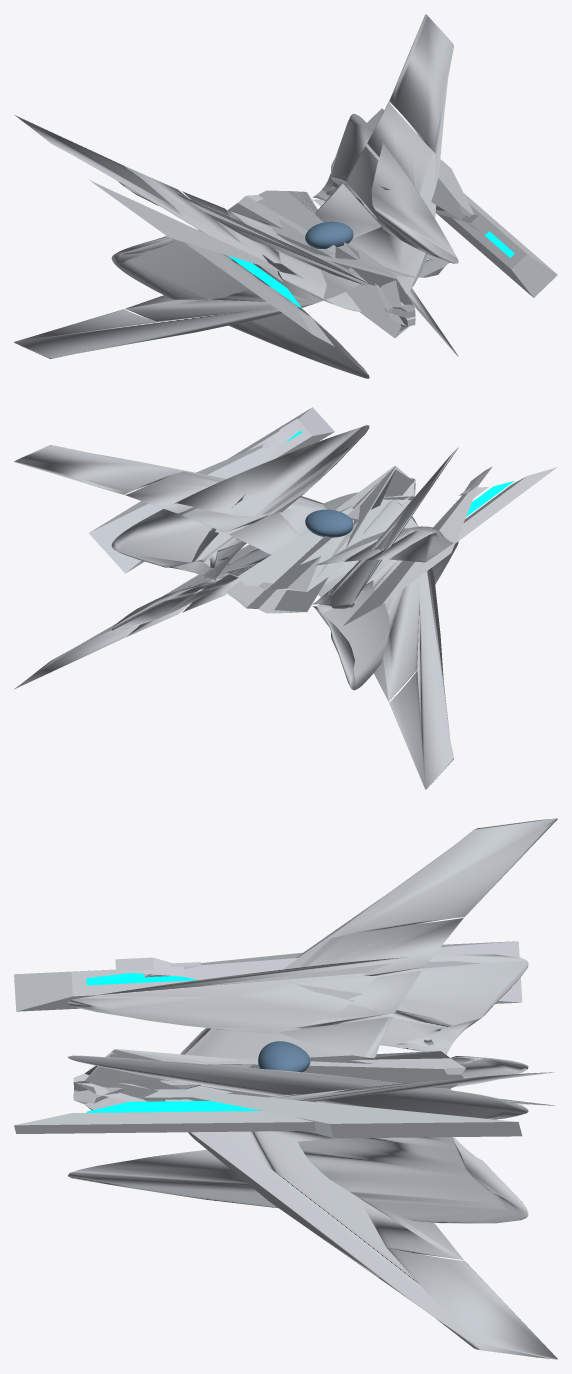
Rendered from ENE020.glb.
3 views of the same model, one above another, from view 1: azimuth 30°, elevation 25°; view 2: azimuth 150°, elevation 25°; view 3: azimuth 270°, elevation 25° (orthographic). The views are drawn at different scales.
Parts seen in each view (by area): view 1: assembly_wing_r, assembly_subwing_r, assembly_wing_weapon_r, assembly_fuselage, assembly_canopy; view 2: assembly_wing_r, assembly_subwing_r, assembly_wing_weapon_r, assembly_fuselage, assembly_canopy; view 3: assembly_subwing_r, assembly_wing_r, assembly_wing_weapon_r, assembly_fuselage, assembly_canopy.
Boxes of the visible parts, x1,y1,x2,y2 form: assembly_wing_r: (14,14,453,358); assembly_subwing_r: (111,113,458,378); assembly_wing_weapon_r: (89,108,557,346); assembly_fuselage: (227,190,415,338); assembly_canopy: (305,221,353,248); assembly_wing_r: (14,445,453,789); assembly_subwing_r: (111,425,458,690); assembly_wing_weapon_r: (89,407,557,625); assembly_fuselage: (225,466,415,613); assembly_canopy: (305,509,353,537); assembly_subwing_r: (68,954,528,1223); assembly_wing_r: (160,818,557,1359); assembly_wing_weapon_r: (14,941,522,1138); assembly_fuselage: (73,1049,465,1110); assembly_canopy: (258,1041,310,1072).
Size of the model in its own units: 6.45 by 3.41 by 5.84.
